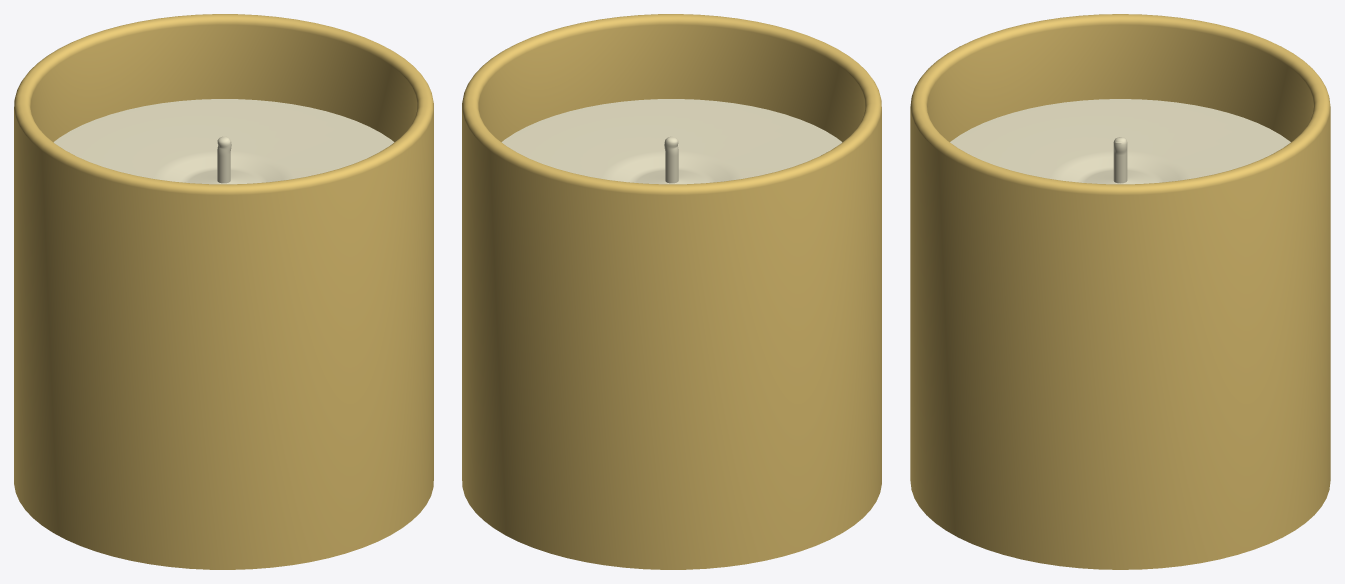
The model's file is dipcandle.glb.
3 views of the same model, side by side, from view 1: azimuth 30°, elevation 25°; view 2: azimuth 150°, elevation 25°; view 3: azimuth 270°, elevation 25° (orthographic).
Parts seen in each view (by area): view 1: Cylinder; view 2: Cylinder; view 3: Cylinder.
Part boxes in pixels (bbox=[...]): Cylinder: bbox=[14, 14, 433, 569]; Cylinder: bbox=[462, 14, 881, 569]; Cylinder: bbox=[910, 14, 1330, 569].
Bounding box in the file's own units: 0.7973 × 0.7973 × 0.7973.
